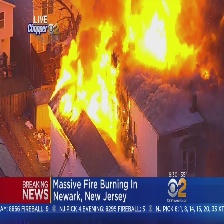fire: (52, 36, 122, 138), (127, 1, 188, 67)
smoke: (137, 73, 224, 159)
